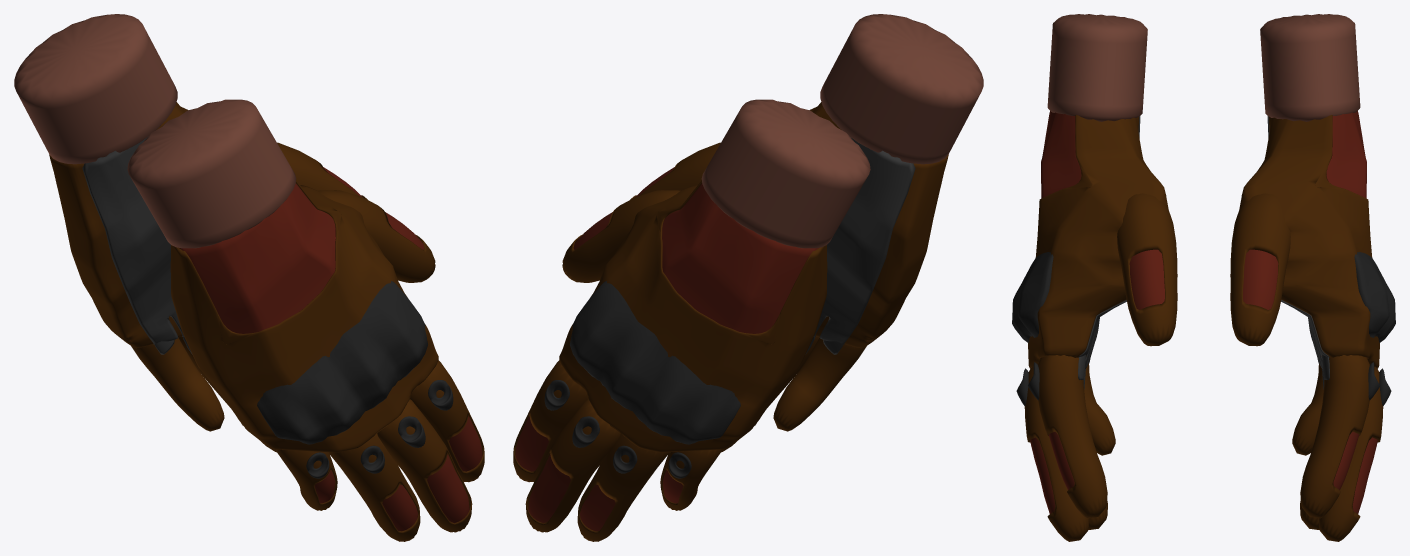
The model's file is per.fbx.
3 renders of one model, left to right at view 1: azimuth 30°, elevation 25°; view 2: azimuth 150°, elevation 25°; view 3: azimuth 270°, elevation 25°, orthographic. The views are drawn at different scales.
Visible parts, largest first — view 1: Group002, Group001, Cylinder006, Cylinder016, Box002, Cylinder012, Cylinder011, Cylinder013, Cylinder018, Cylinder019; view 2: Group001, Group002, Cylinder016, Cylinder006, Box001, Cylinder002, Cylinder001, Cylinder003, Cylinder008, Cylinder009; view 3: Group002, Group001, Cylinder016, Cylinder006, Box002, Box001, Cylinder015, Cylinder005, Cylinder012, Cylinder002, Cylinder011, Cylinder001.
Boxes of the visible parts, x1,y1,x2,y2 form: Group002: [170, 180, 484, 541]; Group001: [49, 102, 367, 452]; Cylinder006: [14, 14, 177, 164]; Cylinder016: [127, 99, 296, 248]; Box002: [179, 183, 335, 333]; Cylinder012: [427, 454, 469, 523]; Cylinder011: [449, 416, 482, 471]; Cylinder013: [382, 485, 417, 531]; Cylinder018: [398, 416, 425, 447]; Cylinder019: [428, 380, 453, 410]; Group001: [513, 180, 827, 541]; Group002: [630, 102, 948, 452]; Cylinder016: [820, 14, 983, 164]; Cylinder006: [701, 99, 870, 248]; Box001: [662, 183, 818, 333]; Cylinder002: [528, 454, 570, 523]; Cylinder001: [515, 416, 548, 471]; Cylinder003: [580, 485, 615, 531]; Cylinder008: [572, 416, 599, 447]; Cylinder009: [544, 380, 569, 410]; Group002: [1012, 115, 1177, 541]; Group001: [1230, 115, 1395, 541]; Cylinder016: [1047, 14, 1147, 121]; Cylinder006: [1260, 14, 1360, 121]; Box002: [1041, 111, 1081, 198]; Box001: [1326, 111, 1366, 198]; Cylinder015: [1129, 249, 1164, 309]; Cylinder005: [1243, 249, 1278, 309]; Cylinder012: [1030, 437, 1055, 513]; Cylinder002: [1352, 437, 1377, 513]; Cylinder011: [1049, 432, 1074, 489]; Cylinder001: [1333, 432, 1358, 489].
Size of the model in its own units: 1.89 by 2.48 by 1.99.
